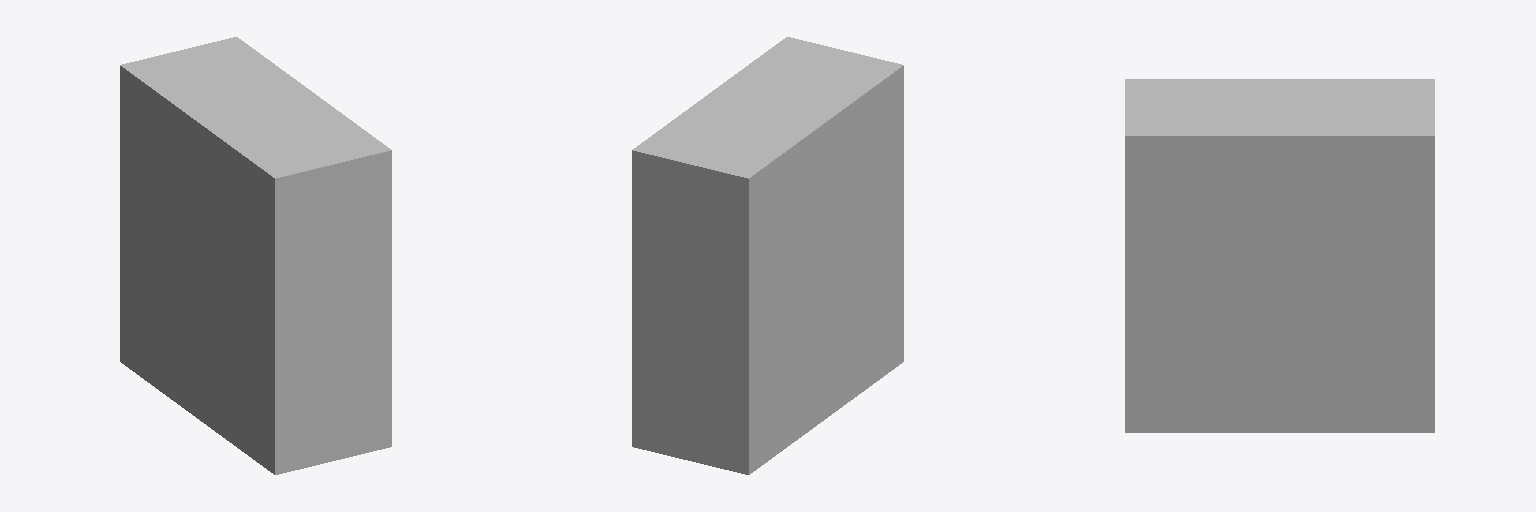
Rendered from mask.obj.
The picture shows the model from 3 angles: view 1: azimuth 30°, elevation 25°; view 2: azimuth 150°, elevation 25°; view 3: azimuth 270°, elevation 25°; orthographic projection.
Visible parts, largest first — view 1: Mask_Rolls; view 2: Mask_Rolls; view 3: Mask_Rolls.
Boxes of the visible parts, x1,y1,x2,y2 form: Mask_Rolls: [120, 37, 391, 474]; Mask_Rolls: [632, 37, 903, 474]; Mask_Rolls: [1125, 79, 1434, 432].
Size of the model in its own units: 0.825 by 2 by 1.9.